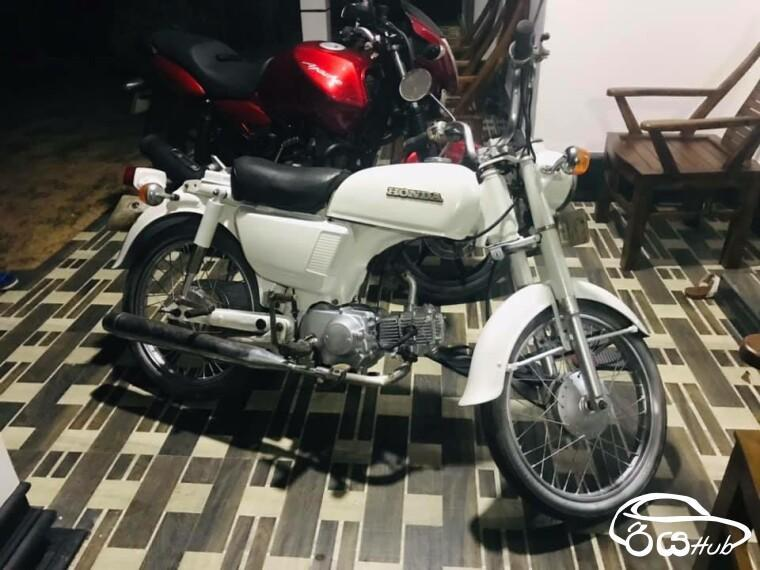motorbike: (102, 20, 668, 527), (119, 1, 458, 181)
